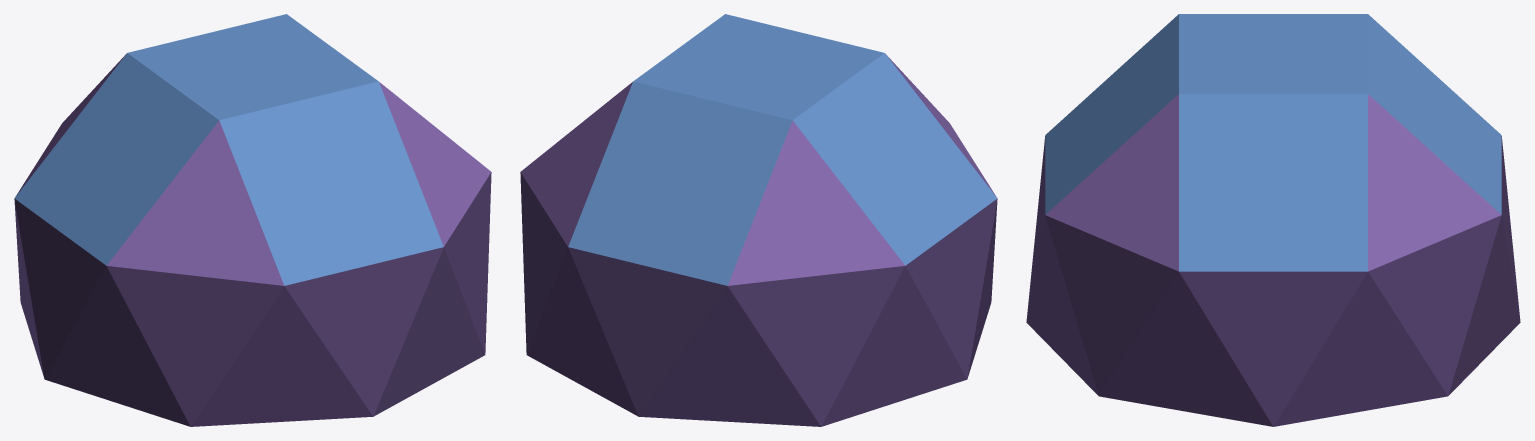
Rendered from J23.CupulaCuadradaGiroelongada.gltf.
The picture shows the model from 3 angles, left to right: view 1: azimuth 30°, elevation 25°; view 2: azimuth 150°, elevation 25°; view 3: azimuth 270°, elevation 25°; orthographic projection. The views are drawn at different scales.
Parts seen in each view (by area): view 1: J23.CupulaCuadradaGiroelongada; view 2: J23.CupulaCuadradaGiroelongada; view 3: J23.CupulaCuadradaGiroelongada.
Part boxes in pixels (x1=…): J23.CupulaCuadradaGiroelongada: x1=14, y1=14, x2=491, y2=426; J23.CupulaCuadradaGiroelongada: x1=520, y1=14, x2=997, y2=426; J23.CupulaCuadradaGiroelongada: x1=1026, y1=14, x2=1520, y2=426.
Bounding box in the file's own units: 19 × 11.39 × 19.
